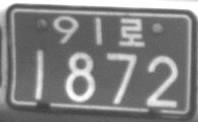1: (26, 49, 54, 100), (87, 17, 112, 45)
2: (145, 54, 179, 108)
7: (106, 51, 137, 105)
8: (64, 50, 95, 103)
9: (53, 14, 79, 44)
로: (117, 17, 145, 47)
